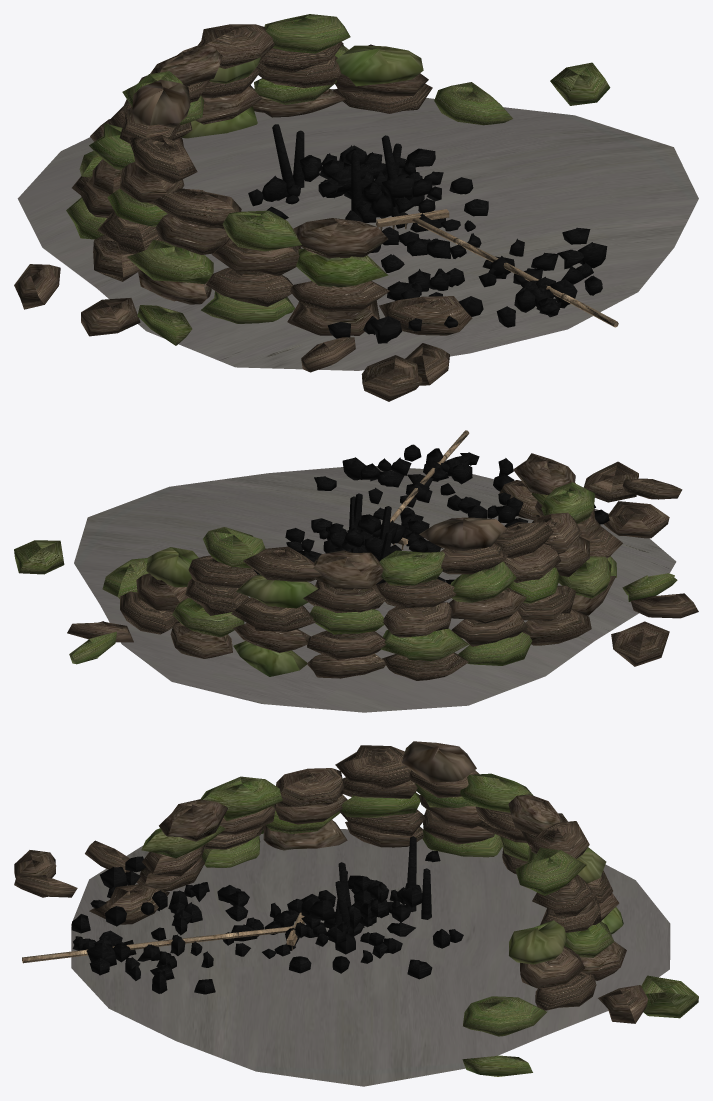
File: kit_tw_clamp_c.glb
The picture shows the model from 3 angles, top to bottom: view 1: azimuth 30°, elevation 25°; view 2: azimuth 150°, elevation 25°; view 3: azimuth 270°, elevation 25°; orthographic projection. The views are drawn at different scales.
Parts seen in each view (by area): view 1: kit_tw_clamp_c; view 2: kit_tw_clamp_c; view 3: kit_tw_clamp_c.
Part boxes in pixels (x1,y1,x2,y2): kit_tw_clamp_c: (14, 14, 698, 401); kit_tw_clamp_c: (14, 430, 698, 712); kit_tw_clamp_c: (14, 741, 698, 1086).
Bounding box in the file's own units: 4.65 × 0.9979 × 4.62.
Materials: 1 (1 with a texture image).
